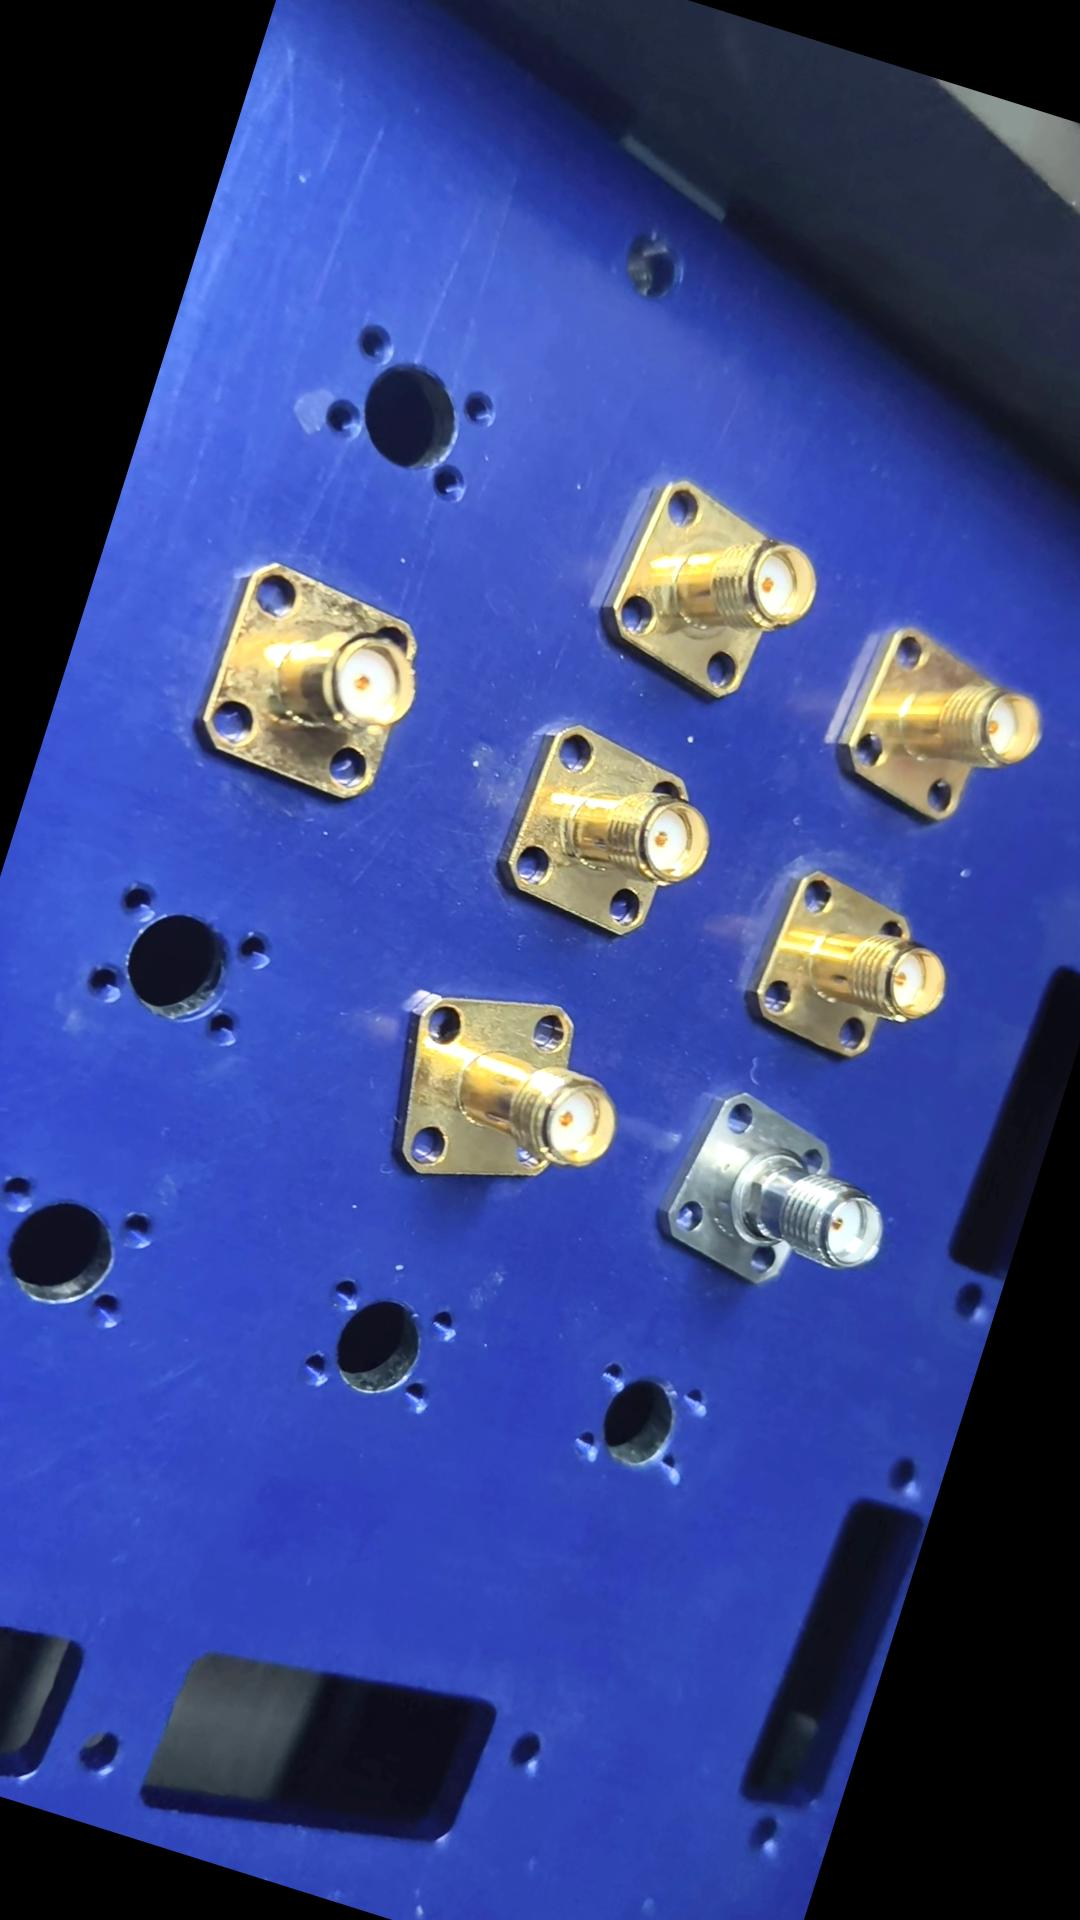SMA: (361, 961, 646, 1226), (178, 551, 444, 815), (640, 1073, 915, 1320), (475, 709, 737, 959), (575, 462, 829, 717), (815, 617, 1062, 847), (731, 855, 971, 1084)
